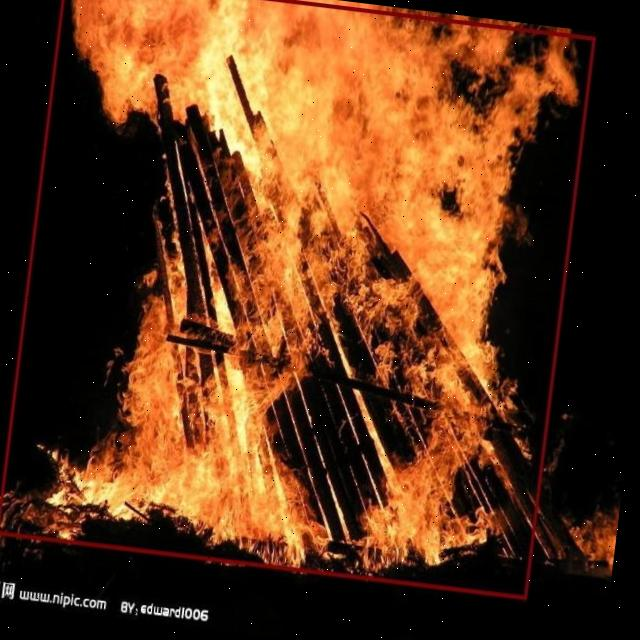fire: (0, 0, 594, 598)
